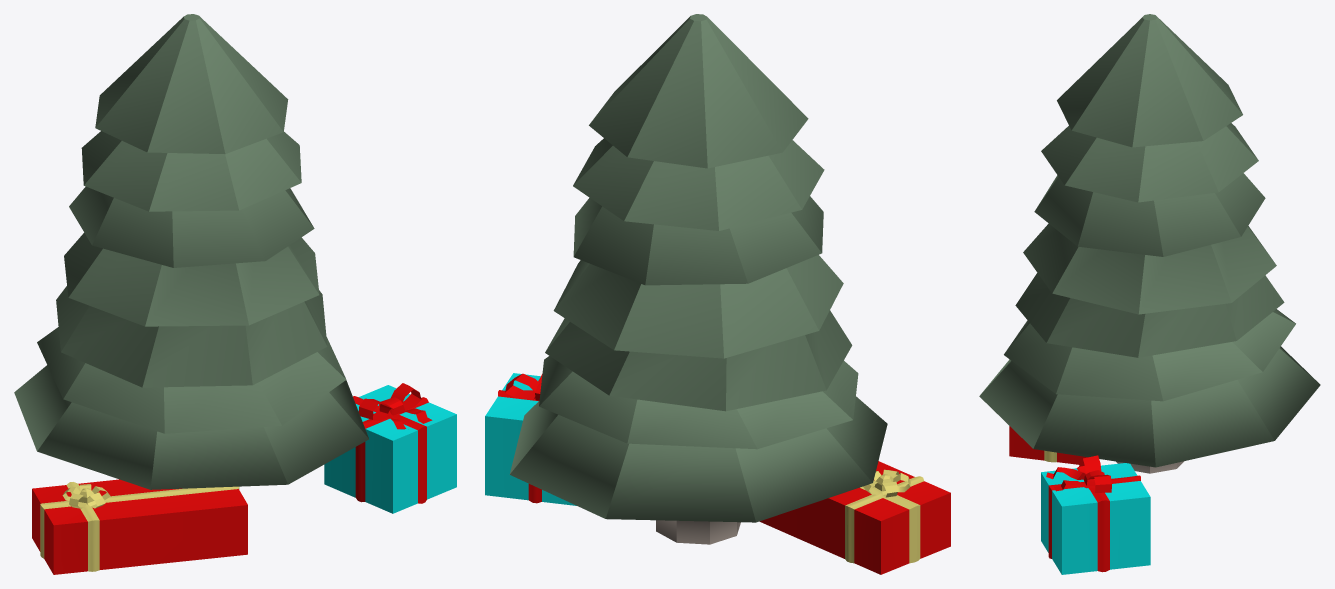
The model's file is Tree.fbx.
3 renders of one model, left to right at view 1: azimuth 30°, elevation 25°; view 2: azimuth 150°, elevation 25°; view 3: azimuth 270°, elevation 25°, orthographic. The views are drawn at different scales.
Visible parts, largest first — view 1: pCylinder1, Present1, Present, Bow, pSphere1; view 2: pCylinder1, Present1, Present, pSphere1, Bow; view 3: pCylinder1, Present, Bow, Present1.
Part boxes in pixels (box(x1,y1,x2,y2)): pCylinder1: box(14, 14, 368, 489); Present1: box(32, 479, 247, 574); Present: box(324, 385, 456, 513); Bow: box(358, 383, 432, 429); pSphere1: box(62, 484, 110, 508); pCylinder1: box(509, 14, 887, 544); Present1: box(759, 461, 950, 574); Present: box(485, 373, 576, 505); pSphere1: box(863, 469, 910, 497); Bow: box(505, 373, 542, 400); pCylinder1: box(979, 14, 1320, 473); Present: box(1041, 463, 1150, 574); Bow: box(1046, 455, 1111, 492); Present1: box(1009, 426, 1087, 464).
Bounding box in the file's own units: 9.67 × 11.22 × 7.56.
